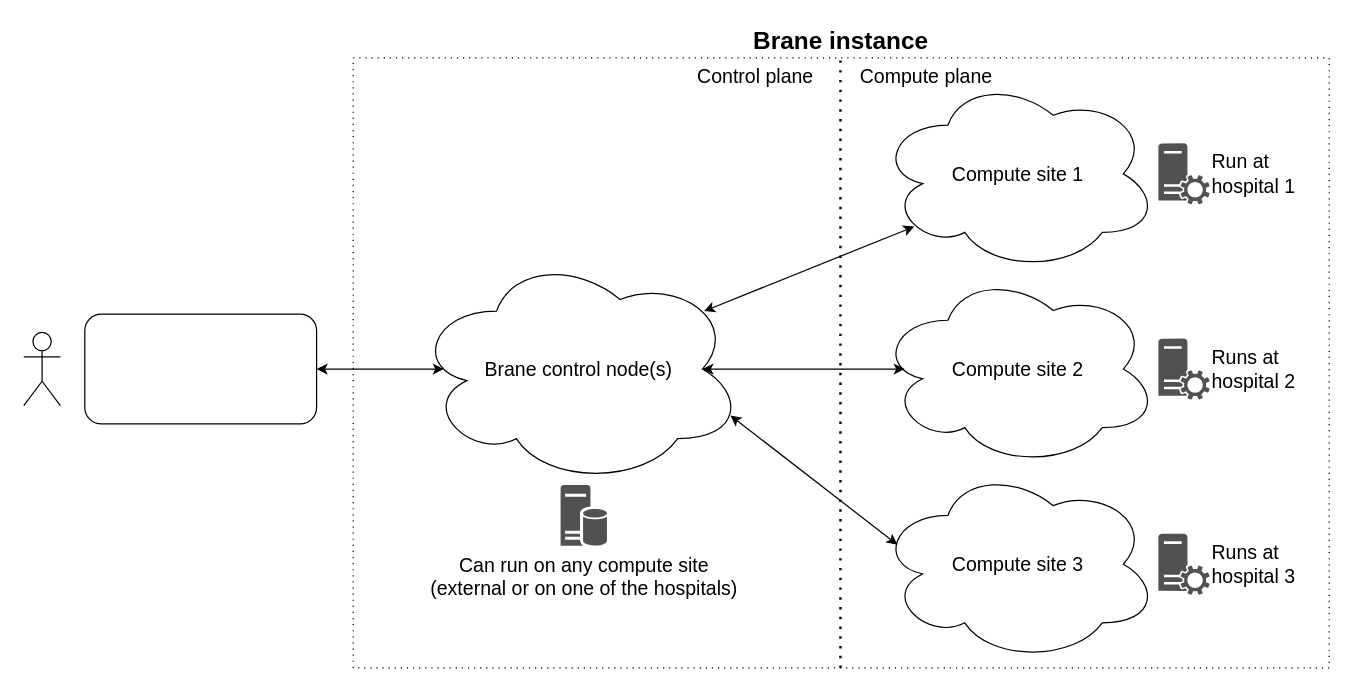
Some shapes in this 1351 by 691 pixel diagram are drawn without their labels. The shapes that lost their labels are listed below. From the top down, each one's centre as x and y in pixels, then its label:
At (x=41, y=368): "User".
At (x=200, y=368): "Brane CLI".
